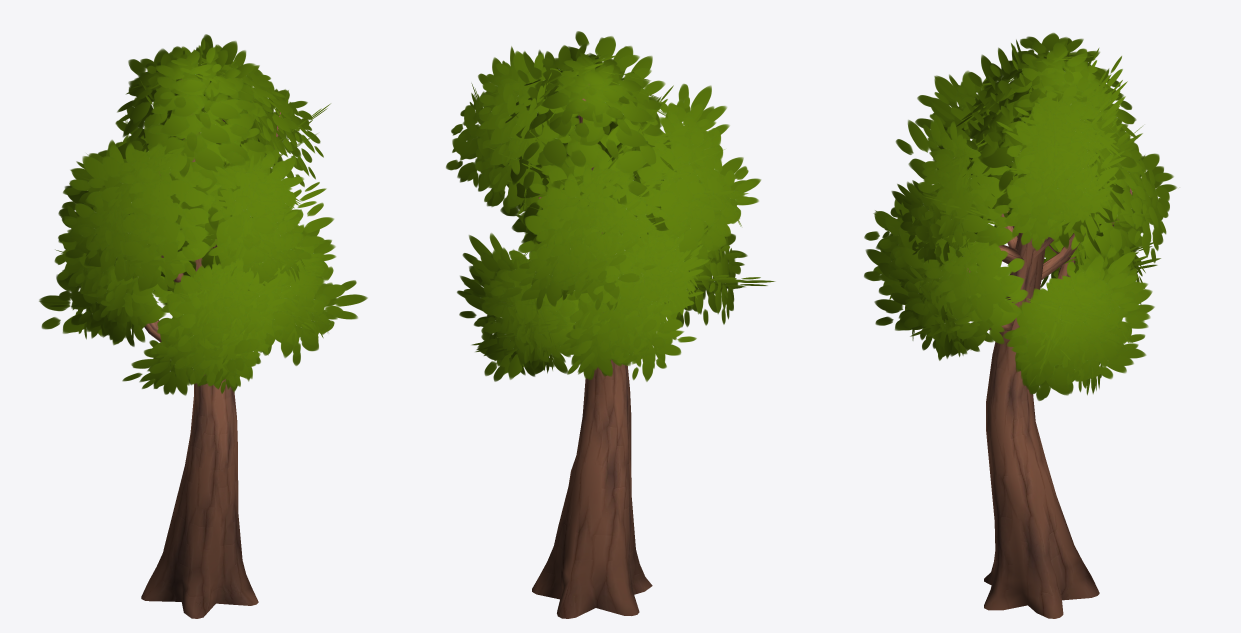
File: tree-tall.glb
3 renders of one model, left to right at view 1: azimuth 30°, elevation 25°; view 2: azimuth 150°, elevation 25°; view 3: azimuth 270°, elevation 25°, orthographic. The views are drawn at different scales.
Visible parts, largest first — view 1: CommonTree_1; view 2: CommonTree_1; view 3: CommonTree_1.
Part boxes in pixels (x1,y1,x2,y2): CommonTree_1: (39,34,367,618); CommonTree_1: (446,31,775,618); CommonTree_1: (864,33,1176,618).
Size of the model in its own units: 4.31 by 7.26 by 4.58.
2 materials, 2 textured.
